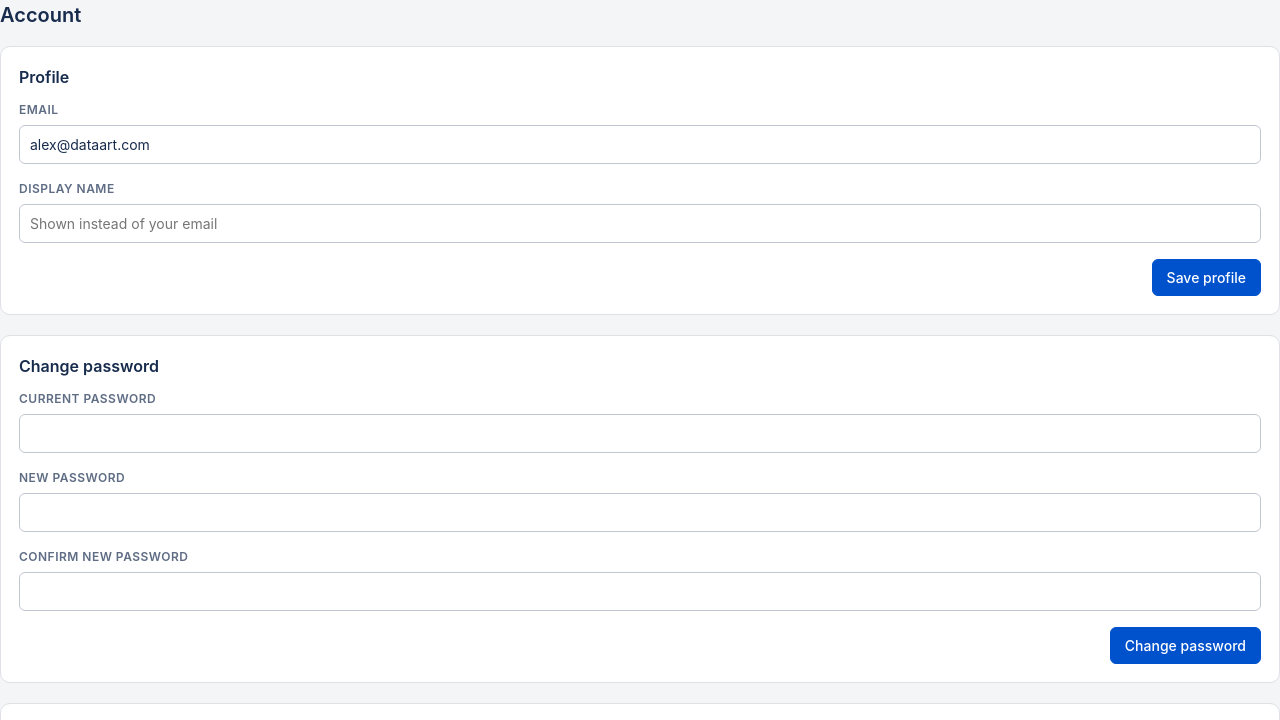
AccountPage — profile › shows a validation field error from the server (e.g. name too long)
Check: the field showing "alex@dataart.com" is shown, box [19,125,1261,164]
Type "Some Name" into the field labelled "Display name" at (640, 224), box [19,204,1261,243]
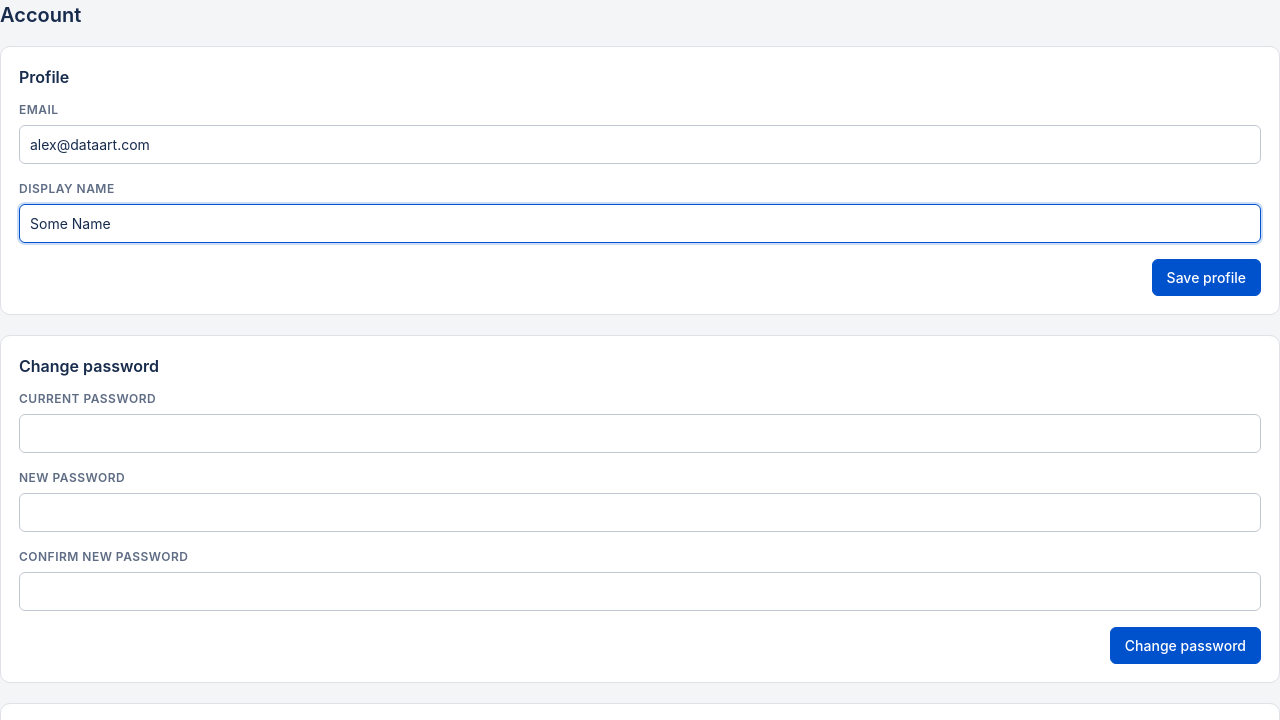
Click the button "Save profile" at (1206, 278), box [1152,259,1261,296]
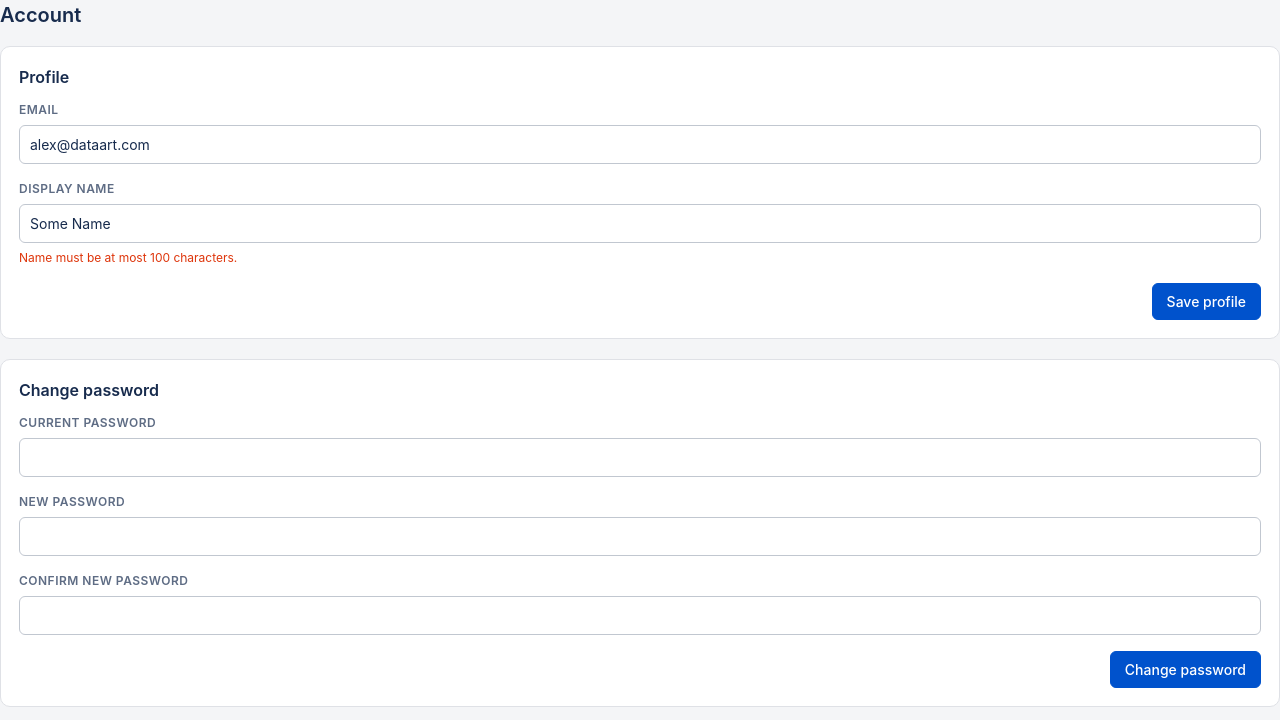
Check: the text "Name must be at most 100 characters." is shown, box [19,250,237,265]
